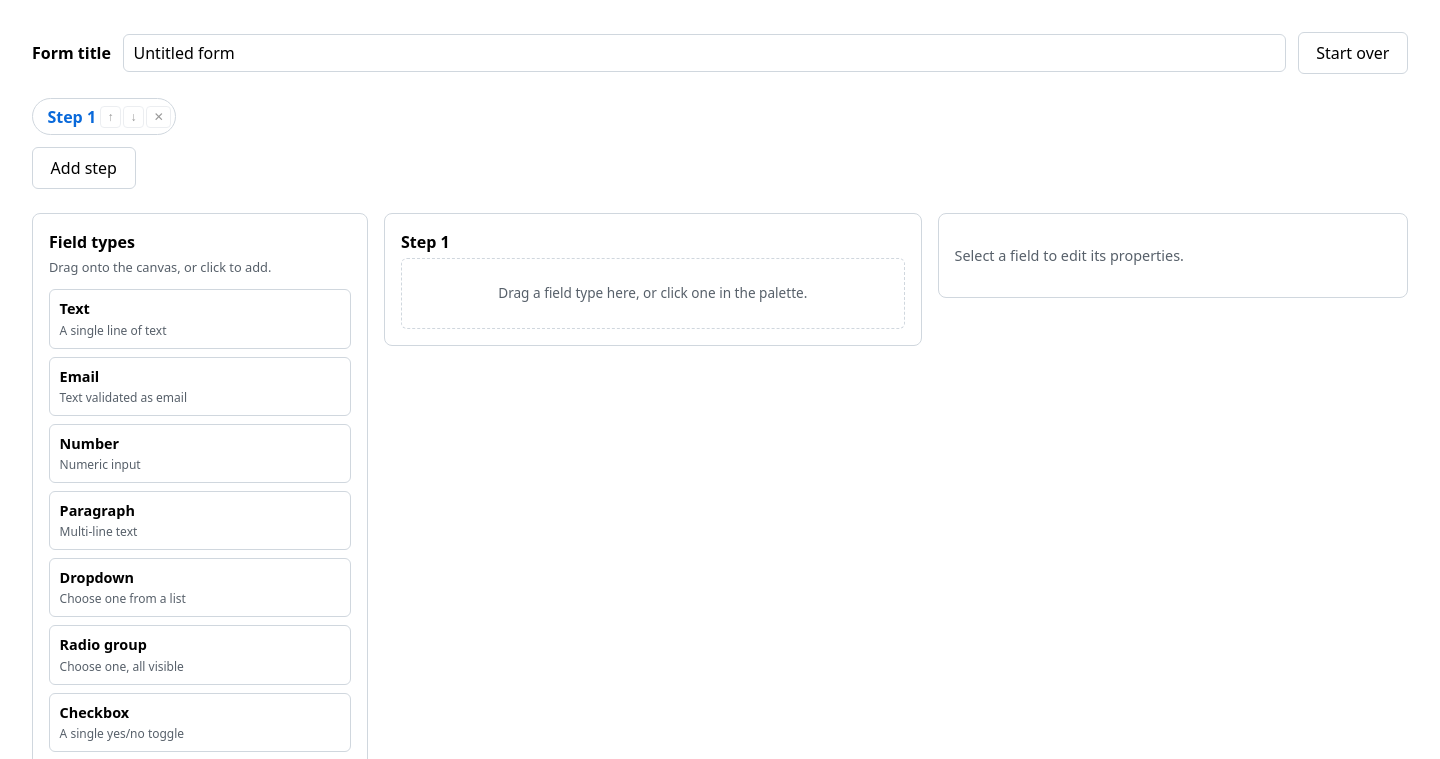
it: BuilderPage › adding a field from the palette selects it and shows it in the canvas and inspector
This screenshot has width=1440, height=759.
Click the button "Text A single line of text": {"x": 75, "y": 309} [49,289,351,348]
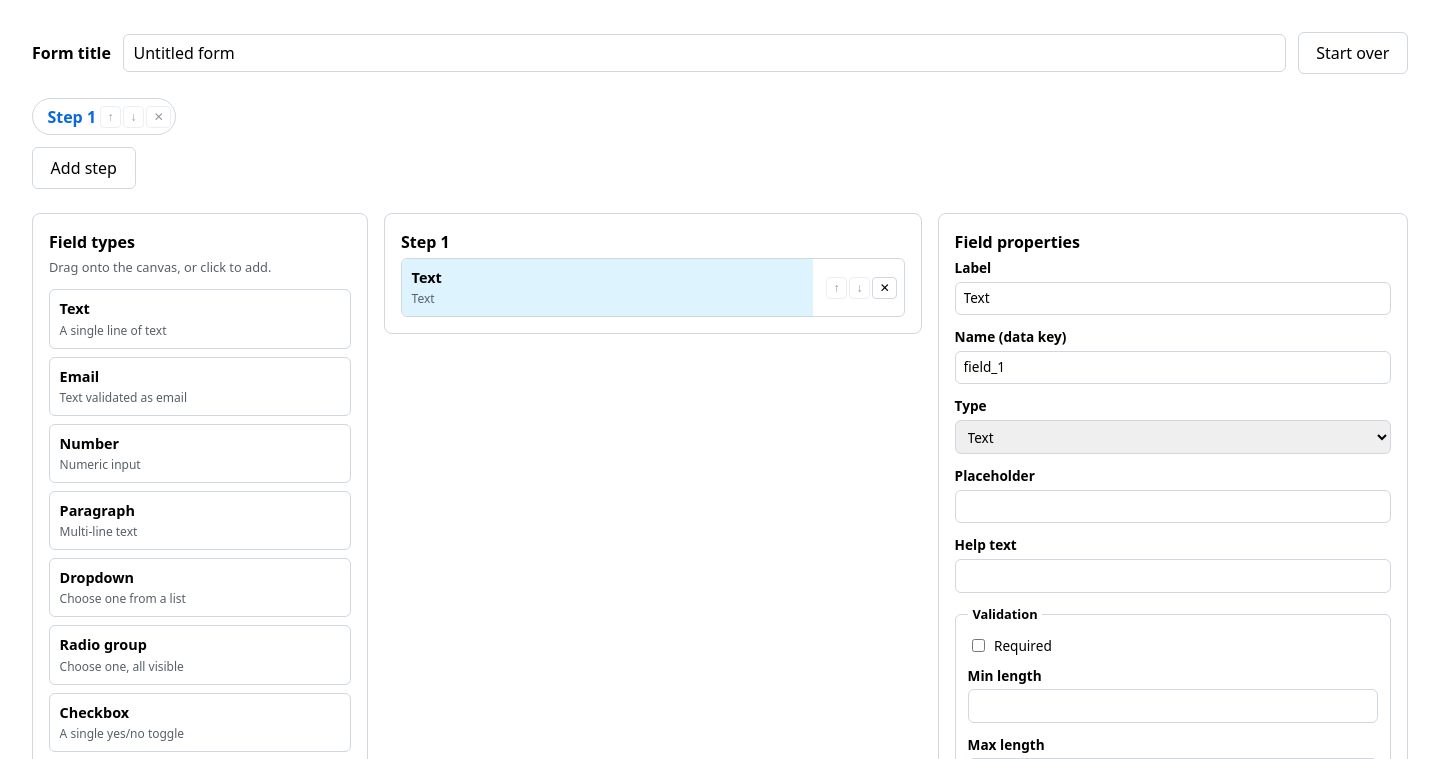
Now the button "Text Text" is shown, box [402,259,813,316]
Now the field labelled "Label" holds "Text", box [955,282,1391,315]
Now the field labelled "Name (data key)" holds "field_1", box [955,351,1391,384]
